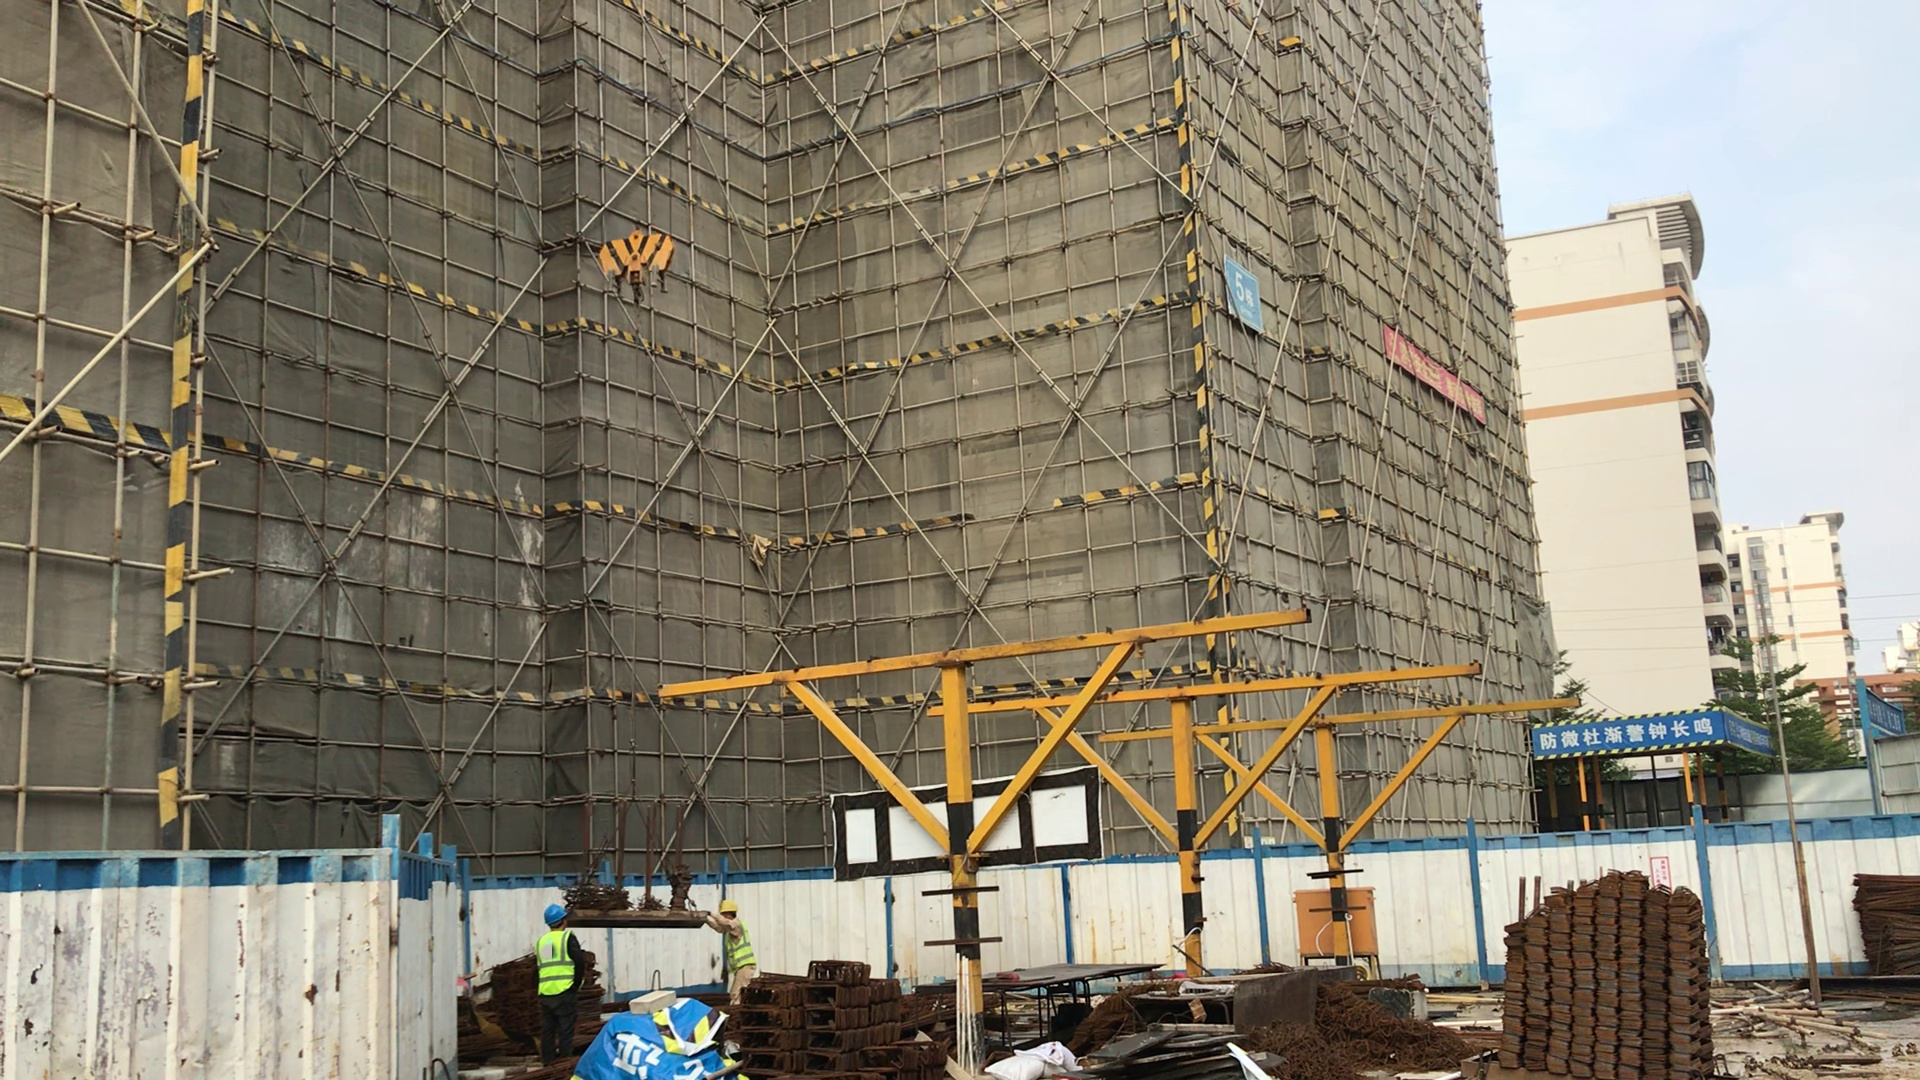ebox: (1280, 874, 1385, 961)
helmet: (539, 897, 574, 929), (716, 893, 748, 926)
hook: (590, 211, 696, 324)
person: (523, 893, 632, 1065), (701, 889, 775, 1029)
slogan: (1380, 312, 1506, 430), (1525, 709, 1726, 774), (1199, 238, 1280, 350), (1707, 701, 1785, 765)
vest: (526, 924, 591, 1003), (712, 920, 764, 984)
